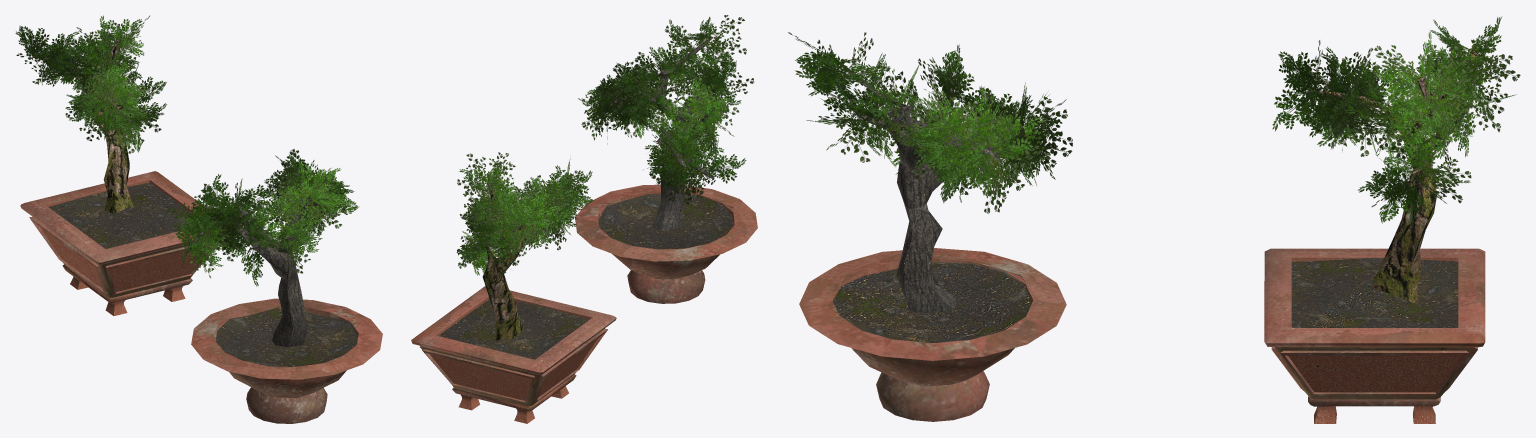
The model's file is vietnamese_bonsai.glb.
The picture shows the model from 3 angles, left to right: view 1: azimuth 30°, elevation 25°; view 2: azimuth 150°, elevation 25°; view 3: azimuth 270°, elevation 25°; orthographic projection. The views are drawn at different scales.
Visible parts, largest first — view 1: Cylinder, Cube; view 2: Cylinder, Cube; view 3: Cube, Cylinder.
Boxes of the visible parts, left/top/right/bottom form: Cylinder: left=167, top=149, right=382, bottom=423; Cube: left=15, top=15, right=215, bottom=315; Cylinder: left=575, top=15, right=757, bottom=303; Cube: left=411, top=152, right=616, bottom=423; Cube: left=1264, top=17, right=1520, bottom=423; Cylinder: left=788, top=32, right=1072, bottom=421.
Bounding box in the file's own units: 270 × 381 × 691.
Materials: 2 (2 with a texture image).
